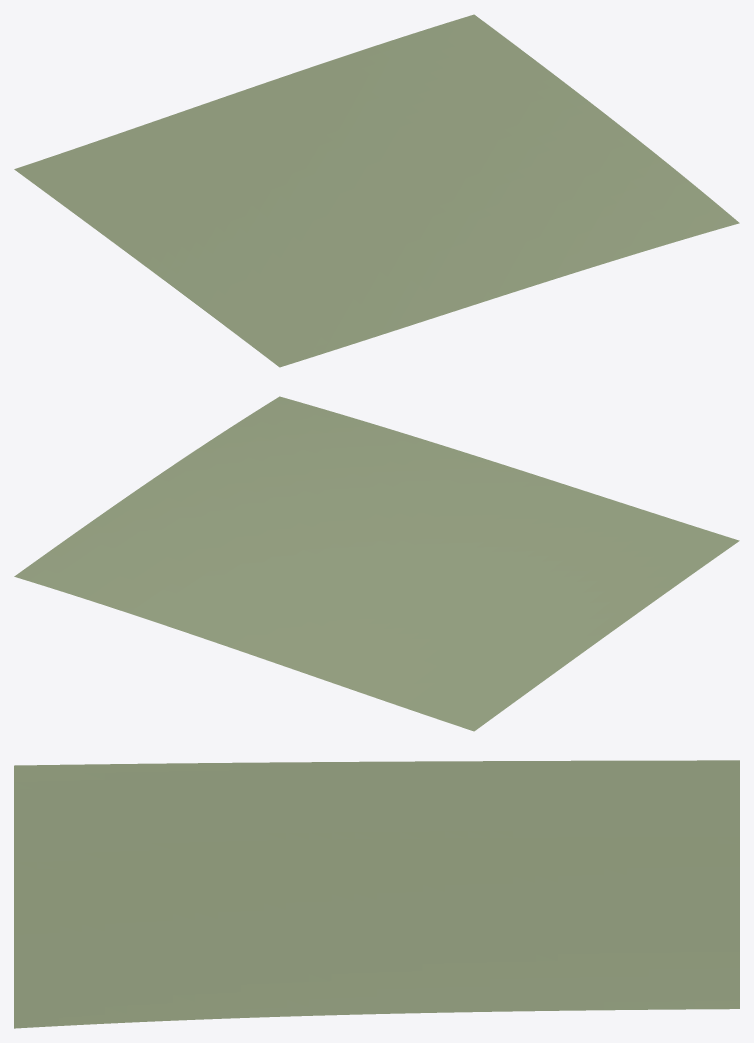
The model's file is valley-14-6.glb.
The picture shows the model from 3 angles, top to bottom: view 1: azimuth 30°, elevation 25°; view 2: azimuth 150°, elevation 25°; view 3: azimuth 270°, elevation 25°; orthographic projection. The views are drawn at different scales.
Parts seen in each view (by area): view 1: valley-14-6; view 2: valley-14-6; view 3: valley-14-6.
Part boxes in pixels (x1,y1,x2,y2): valley-14-6: (14, 14, 739, 367); valley-14-6: (14, 396, 739, 731); valley-14-6: (14, 760, 739, 1028).
Bounding box in the file's own units: 256 × 24.6 × 256.
